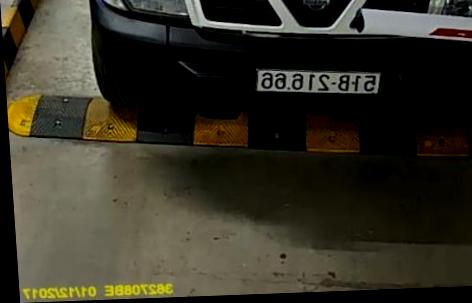License_Plate: (252, 64, 384, 96)
